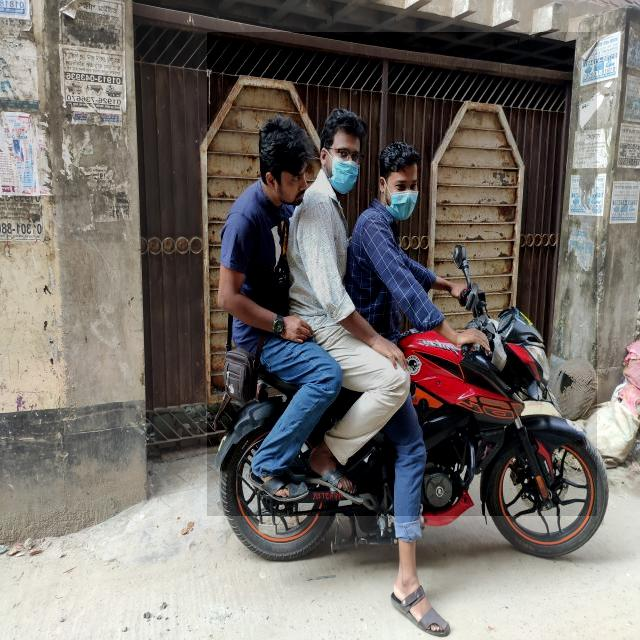Overloading: (208, 32, 598, 516)
